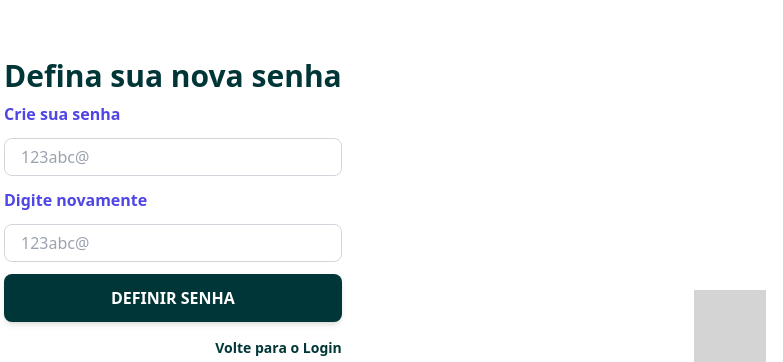
Test: ResetPassword Component › mostra erro se a senha for menor que 6 caracteres
Type "123" into the 1st password field with placeholder "123abc@" at (173, 157), box [5,139,341,175]
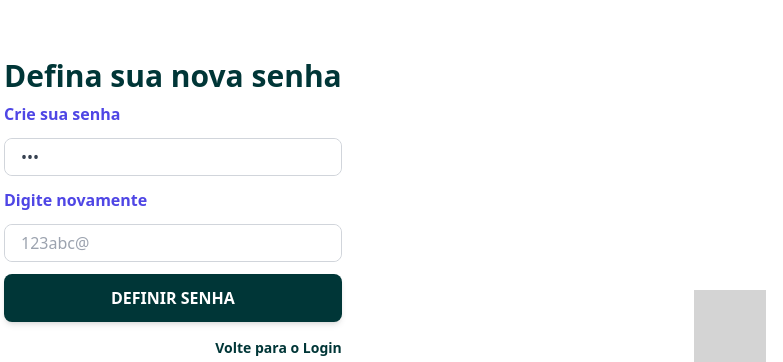
Type "123" into the password field with placeholder "123abc@" at (173, 243), box [5,225,341,261]
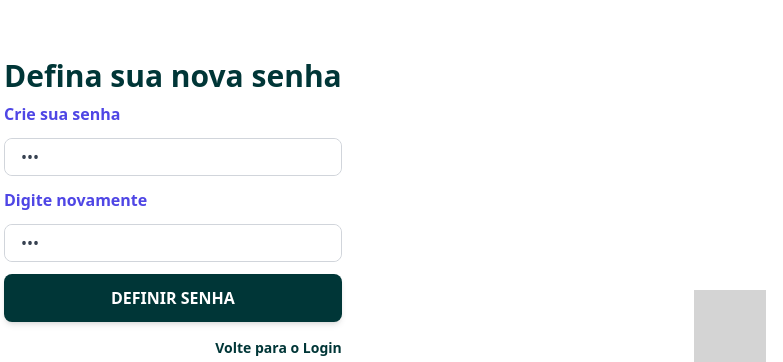
Click the button "DEFINIR SENHA" at (173, 298), box [4,274,342,322]
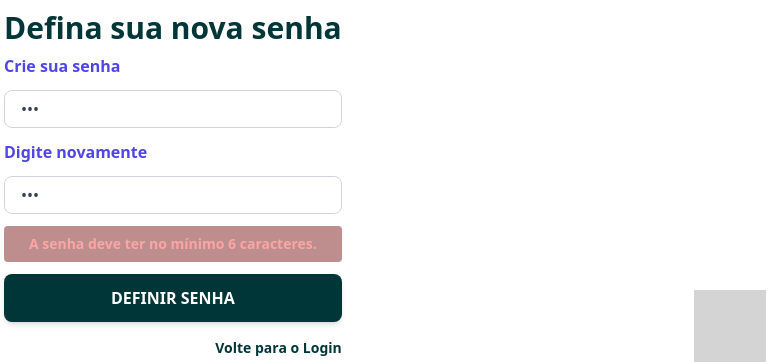
Expected: the text "A senha deve ter no mínimo 6 caracteres." is shown, [4,226,342,262]
